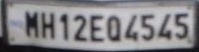character: (89, 13, 104, 42), (173, 12, 189, 39), (73, 14, 88, 41), (106, 14, 120, 42), (124, 13, 138, 41), (40, 11, 54, 38), (158, 13, 173, 38), (140, 13, 154, 39), (25, 11, 38, 38), (59, 13, 70, 41)
